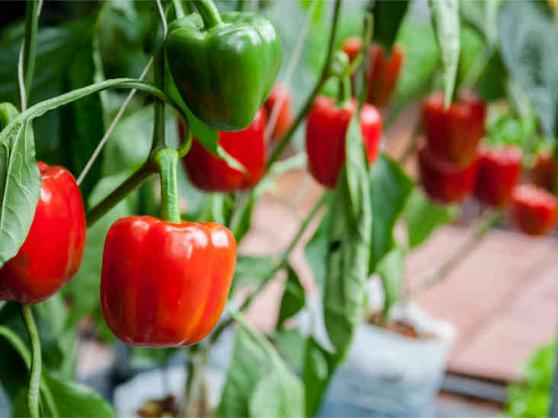pepper: (103, 209, 227, 351)
